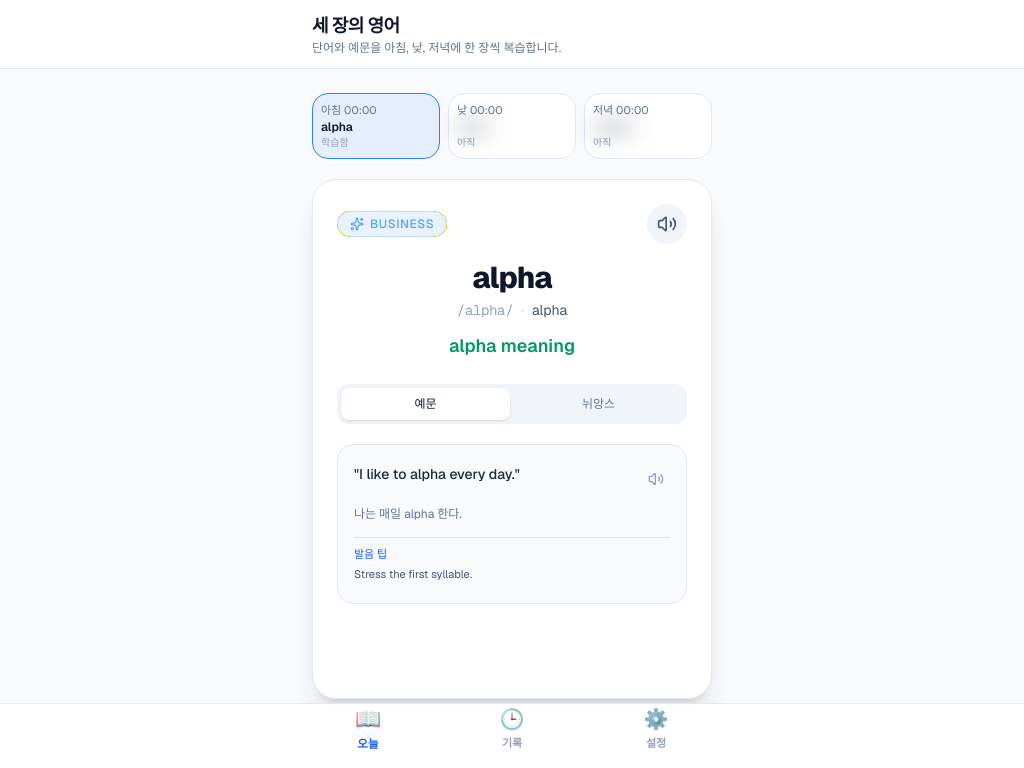
Test case: HomePage render › keeps the history tab active after selecting it
Check: the text "alpha meaning" is shown, box [449, 334, 575, 356]
Click the button "🕒 기록".
click(512, 728)  # box [440, 704, 584, 752]
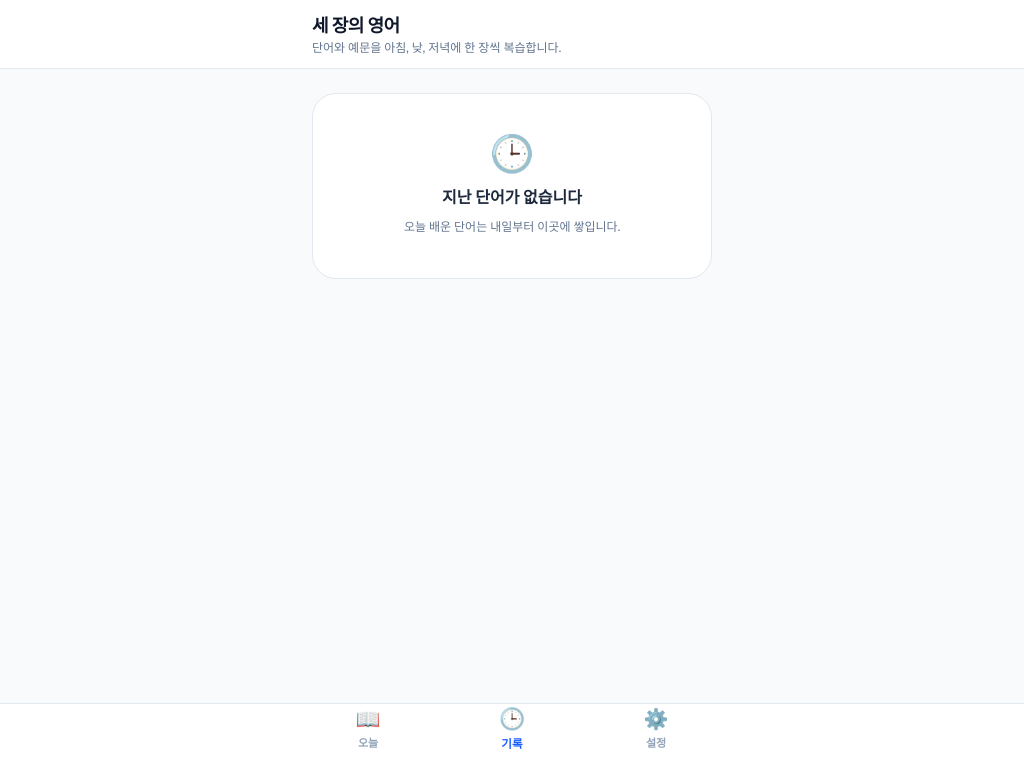
Check: the heading "지난 단어가 없습니다" is shown, box [442, 187, 582, 208]
Check: the text "alpha meaning" is gone
Check: the button "아침 00:00" is gone
